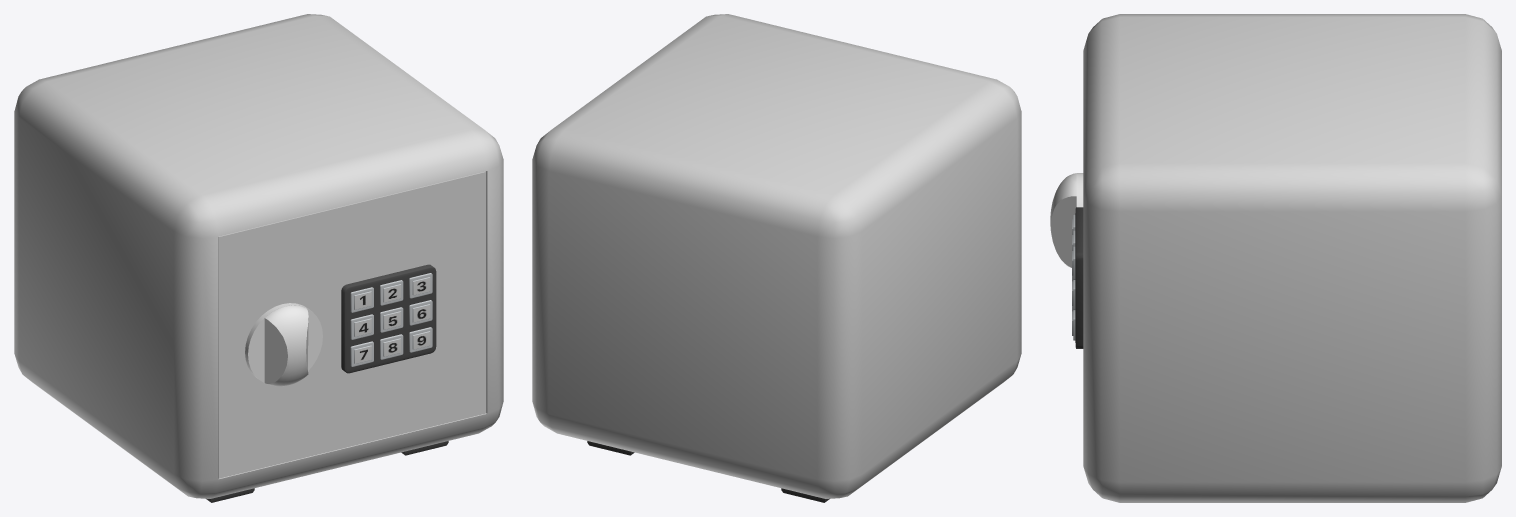
File: CajaFuerte.fbx
3 views of the same model, side by side, from view 1: azimuth 30°, elevation 25°; view 2: azimuth 150°, elevation 25°; view 3: azimuth 270°, elevation 25° (orthographic). The views are drawn at different scales.
Parts seen in each view (by area): view 1: Cube, Cube.001, Cube.003, Cube.002, Sphere, Cylinder; view 2: Cube; view 3: Cube, Sphere, Cube.002, Cube.003.
Boxes of the visible parts, x1,y1,x2,y2 form: Cube: (14,14,503,498); Cube.001: (218,171,486,478); Cube.003: (350,273,432,366); Cube.002: (341,264,436,373); Sphere: (264,305,308,386); Cylinder: (245,303,322,382); Cube: (532,14,1021,498); Cube: (1083,14,1501,502); Sphere: (1050,173,1076,267); Cube.002: (1075,207,1083,348); Cube.003: (1072,214,1075,340).
Size of the model in its own units: 37.4 by 34.6 by 40.38.
5 materials, 1 textured.
